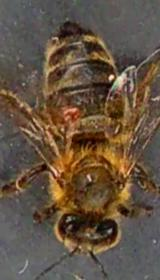varroa_mite: (57, 96, 85, 130)
